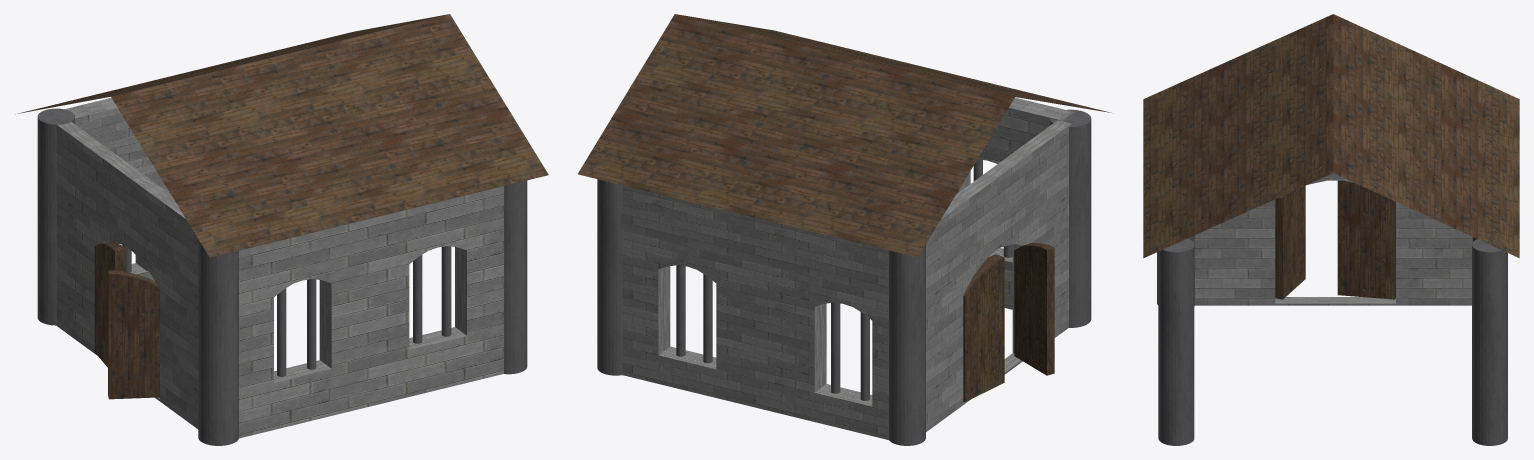
File: scena1.glb
The picture shows the model from 3 angles, left to right: view 1: azimuth 30°, elevation 25°; view 2: azimuth 150°, elevation 25°; view 3: azimuth 270°, elevation 25°; orthographic projection. The views are drawn at different scales.
Visible parts, largest first — view 1: Plane.001, Cube, Cube.001, Cylinder, Cube.003, Cylinder.001, Cylinder.003, Cube.004, Cube.002, Cylinder.006, Cylinder.004, Cylinder.007 (+1 smaller); view 2: Plane.001, Cube.004, Cube.001, Cylinder.003, Cube.002, Cube.003, Cylinder.002, Cylinder, Cube, Cylinder.009, Cylinder.011, Cylinder.008 (+1 smaller); view 3: Plane.001, Cube.001, Cylinder.001, Cylinder.002, Cube.002, Cube.003.
Part boxes in pixels (left/top/right/bottom): Plane.001: left=15, top=14, right=548, bottom=257; Cube: left=239, top=186, right=503, bottom=438; Cube.001: left=56, top=121, right=198, bottom=429; Cylinder: left=198, top=239, right=238, bottom=445; Cube.003: left=108, top=270, right=159, bottom=399; Cylinder.001: left=504, top=180, right=527, bottom=374; Cylinder.003: left=37, top=108, right=74, bottom=325; Cube.004: left=65, top=98, right=170, bottom=281; Cube.002: left=94, top=242, right=125, bottom=367; Cylinder.006: left=441, top=246, right=451, bottom=336; Cylinder.004: left=307, top=279, right=316, bottom=369; Cylinder.007: left=413, top=255, right=422, bottom=343; Plane.001: left=578, top=14, right=1111, bottom=257; Cube.004: left=622, top=185, right=888, bottom=439; Cube.001: left=926, top=120, right=1071, bottom=431; Cylinder.003: left=889, top=244, right=925, bottom=445; Cube.002: left=963, top=254, right=1004, bottom=402; Cube.003: left=1014, top=243, right=1054, bottom=375; Cylinder.002: left=597, top=179, right=622, bottom=375; Cylinder: left=1050, top=109, right=1091, bottom=327; Cube: left=956, top=97, right=1073, bottom=309; Cylinder.009: left=676, top=265, right=685, bottom=356; Cylinder.011: left=831, top=302, right=840, bottom=393; Cylinder.008: left=703, top=274, right=712, bottom=363; Plane.001: left=1143, top=14, right=1519, bottom=258; Cube.001: left=1195, top=173, right=1472, bottom=305; Cylinder.001: left=1158, top=238, right=1194, bottom=445; Cylinder.002: left=1472, top=239, right=1507, bottom=445; Cube.002: left=1337, top=180, right=1395, bottom=299; Cube.003: left=1275, top=185, right=1305, bottom=299.
Size of what is drawn, in the model's own units: 22.19 by 16.93 by 20.91.
3 materials, 3 textured.
